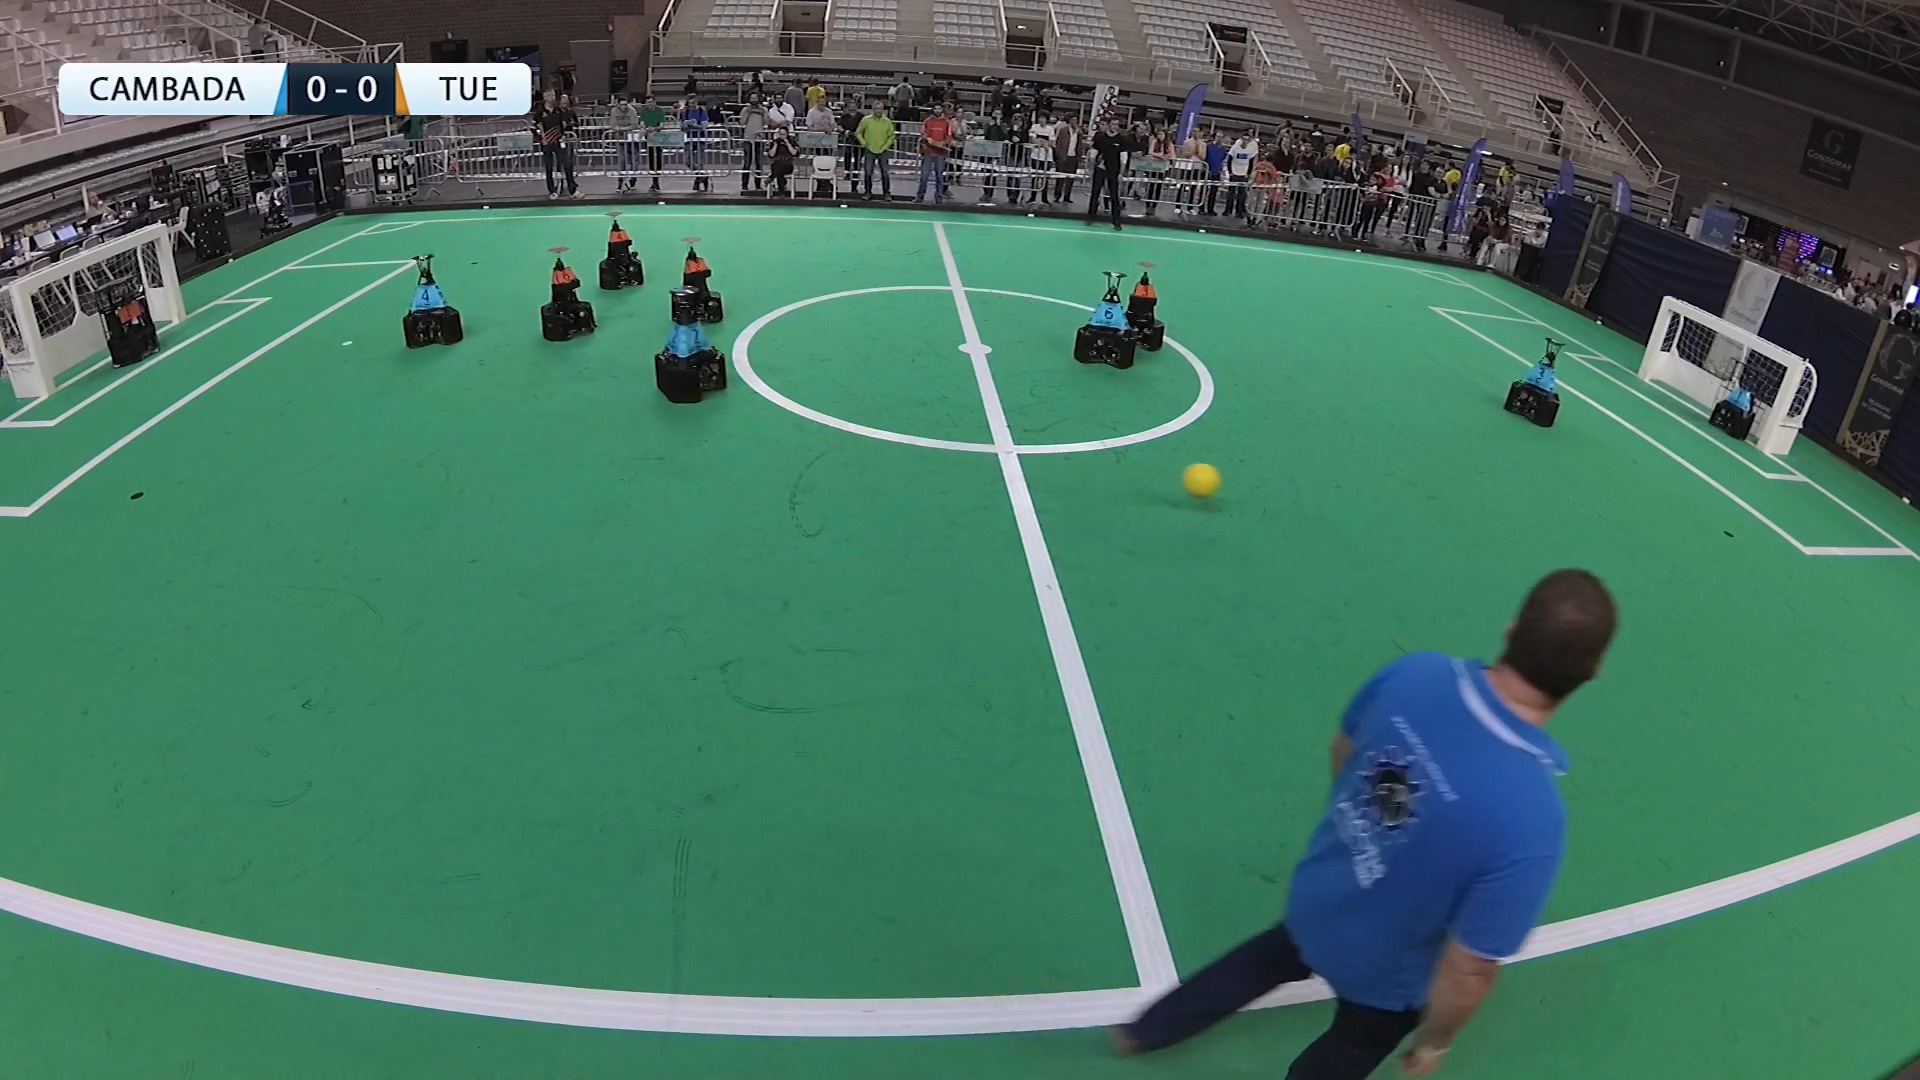BALL: (1179, 459, 1222, 502)
BLUE2: (650, 306, 733, 401)
BLUE3: (1499, 338, 1569, 433)
BLUE4: (394, 249, 468, 351)
BLUE6: (1069, 281, 1130, 363)
B_Goalie: (1698, 363, 1775, 440)
RED2: (673, 235, 727, 302)
RED3: (1126, 266, 1164, 351)
RED4: (592, 208, 647, 298)
RED6: (530, 243, 599, 345)
R_Goalie: (87, 277, 164, 367)
Referee: (1253, 563, 1644, 980)
